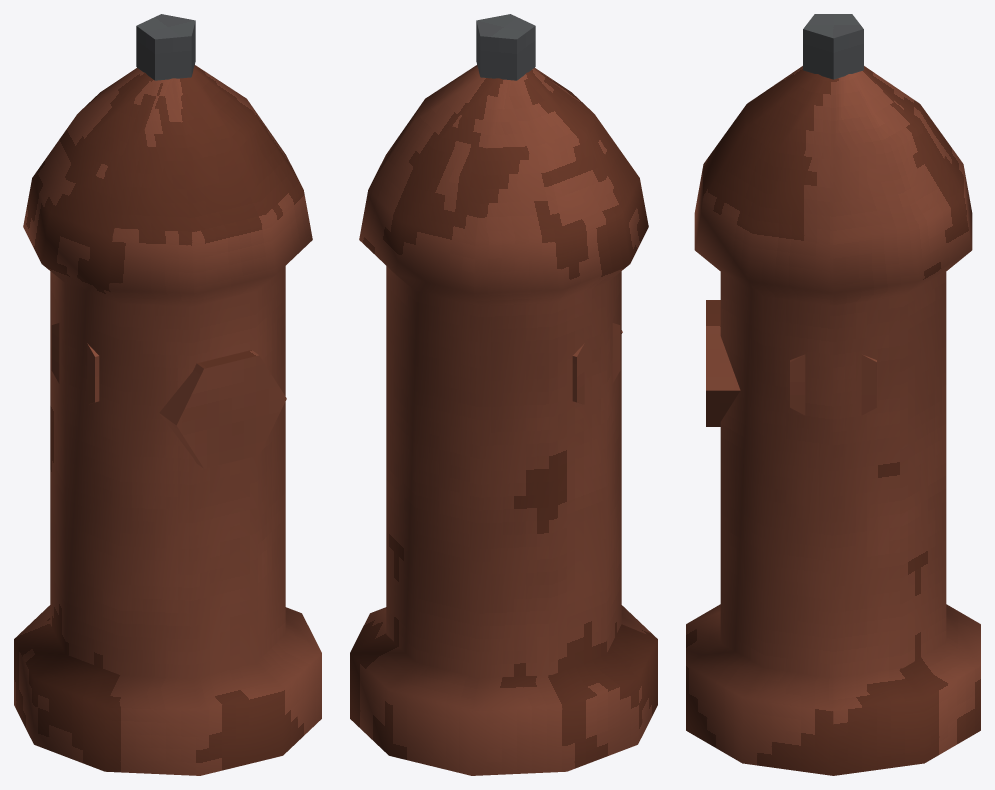
Rendered from town_hydrant.glb.
3 renders of one model, left to right at view 1: azimuth 30°, elevation 25°; view 2: azimuth 150°, elevation 25°; view 3: azimuth 270°, elevation 25°, orthographic.
Visible parts, largest first — view 1: body-col, detail; view 2: body-col, detail; view 3: body-col, detail.
Part boxes in pixels (x1,y1,x2,y2): body-col: (14,65,321,775); detail: (51,14,286,468); body-col: (350,65,657,775); detail: (476,14,622,404); body-col: (686,66,980,775); detail: (706,14,876,426).
Size of the model in its own units: 0.34 by 0.83 by 0.3234.
2 materials, 2 textured.
